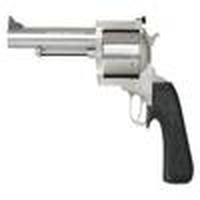gun: (2, 18, 198, 193)
